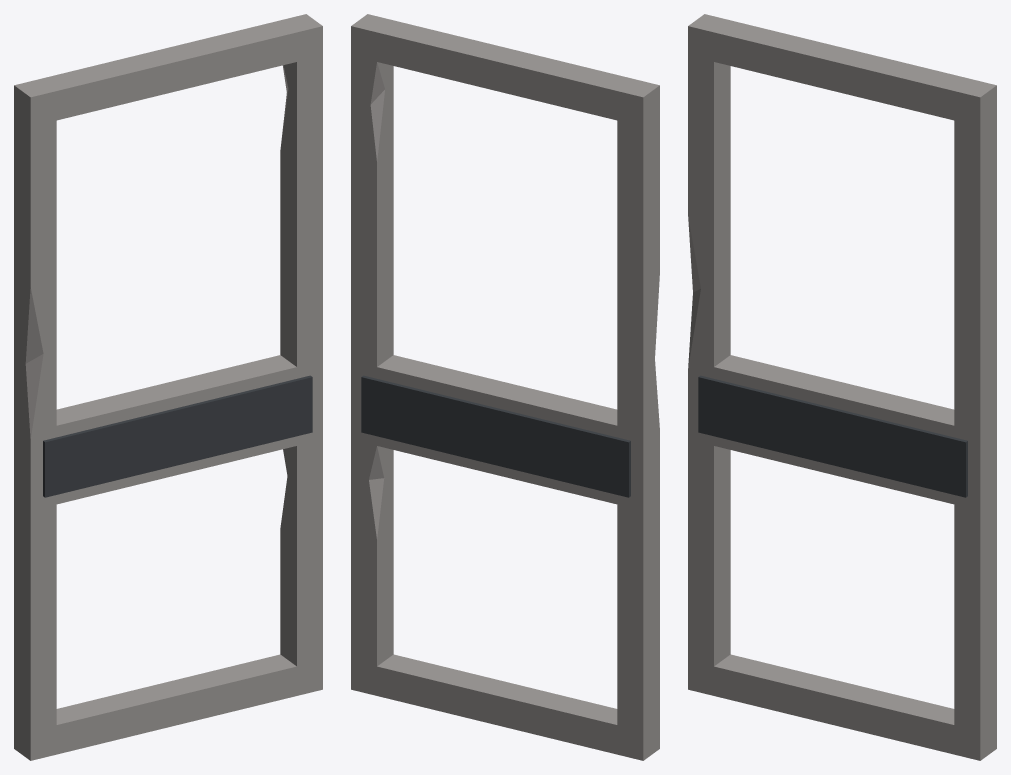
File: SM_Bld_GasStation_Door_02.glb
3 renders of one model, left to right at view 1: azimuth 30°, elevation 25°; view 2: azimuth 150°, elevation 25°; view 3: azimuth 330°, elevation 25°, orthographic.
Visible parts, largest first — view 1: SM_Bld_GasStation_Door_02; view 2: SM_Bld_GasStation_Door_02; view 3: SM_Bld_GasStation_Door_02.
Boxes of the visible parts, left/top/right/bottom form: SM_Bld_GasStation_Door_02: left=14, top=14, right=322, bottom=760; SM_Bld_GasStation_Door_02: left=351, top=14, right=659, bottom=760; SM_Bld_GasStation_Door_02: left=688, top=14, right=996, bottom=760.
Bounding box in the file's own units: 1.03 × 2.22 × 0.127.
Materials: 1 (1 with a texture image).
